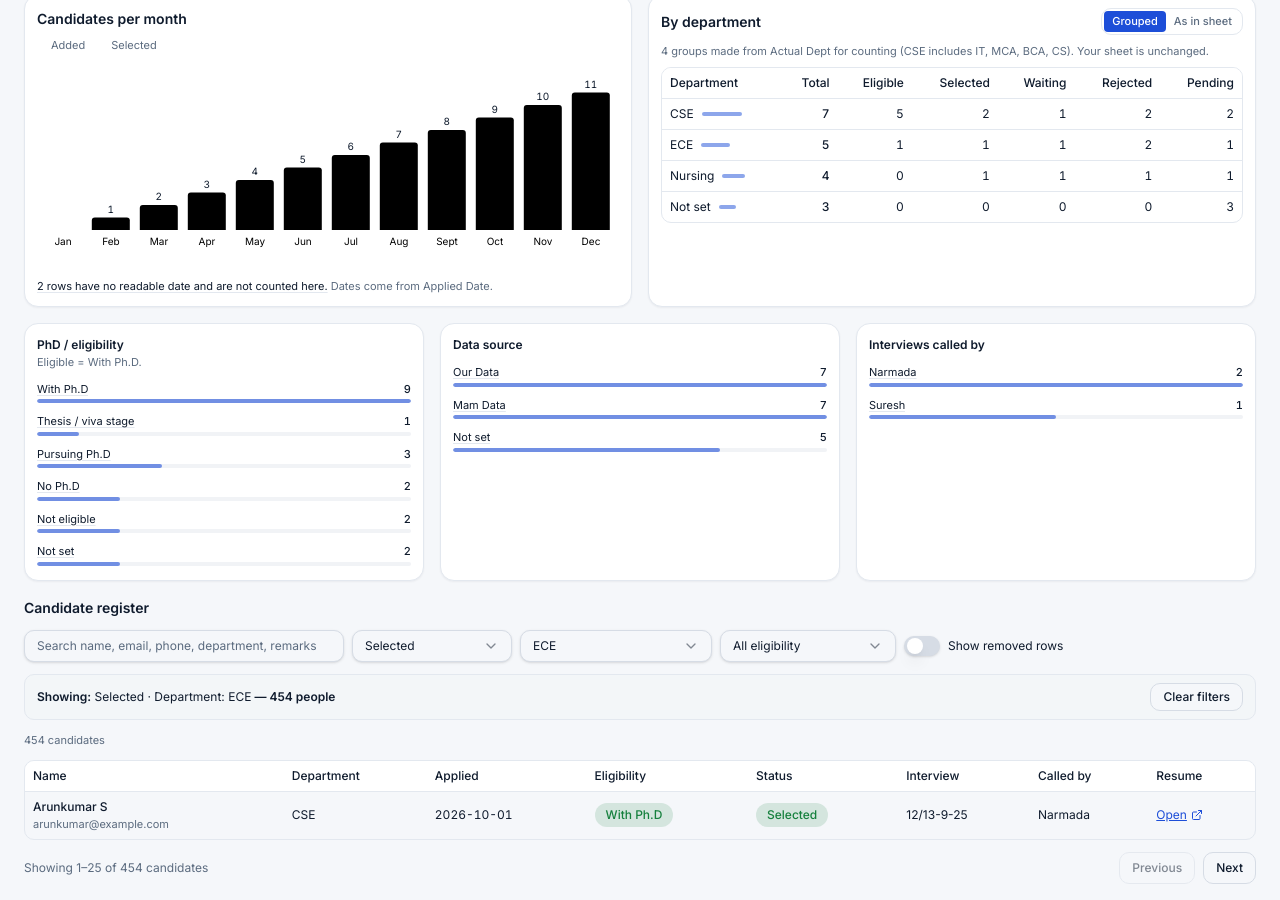
Test: every count opens the list behind it (2026-10-31) › says what the list is showing and how many people, with a Clear filters button
The image size is (1280, 900).
(page scrolled)
Click the button "Clear filters" at (1197, 696), box [1150, 682, 1243, 710]
(page scrolled)
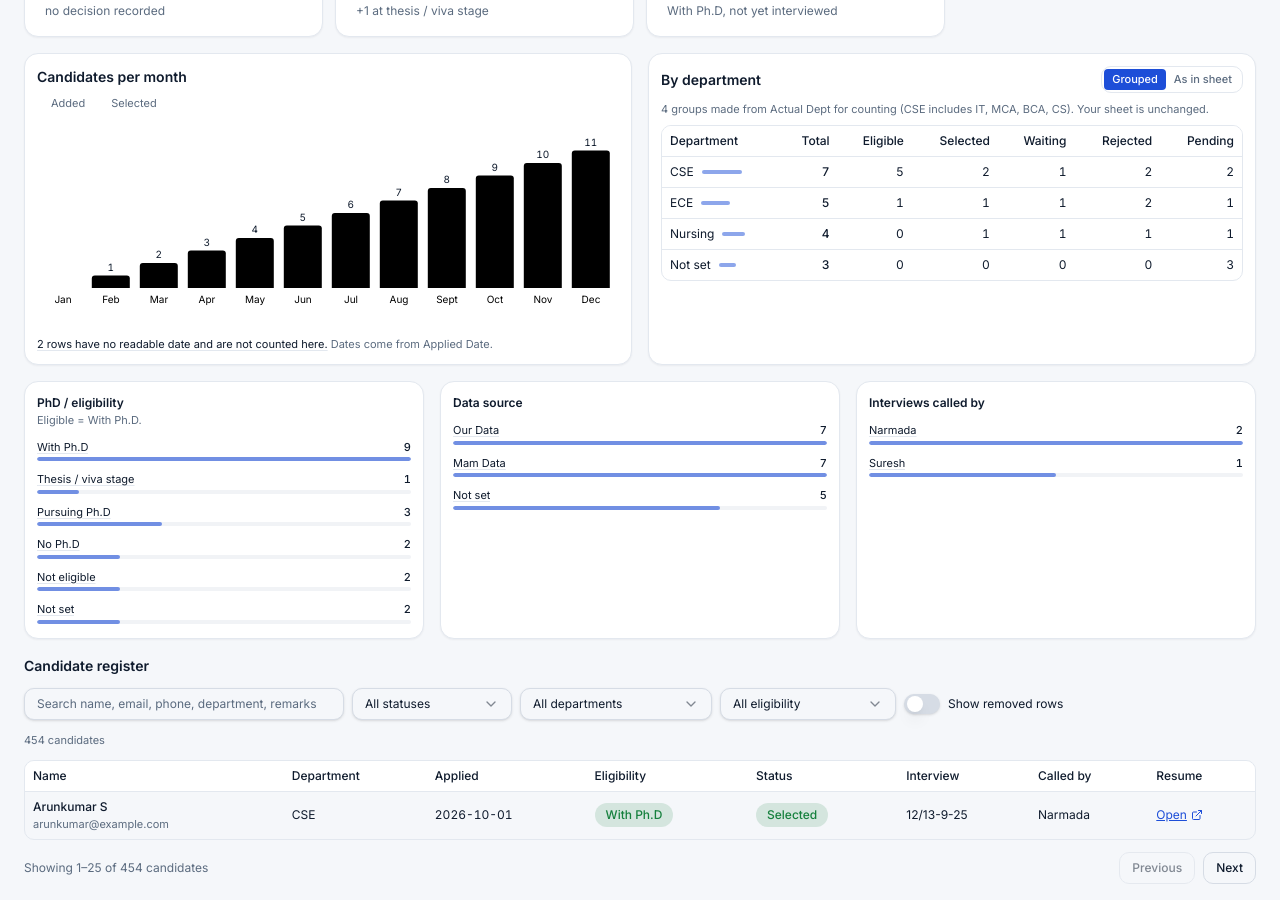
Now the element with test id "talent-pool-active-filters" is gone
